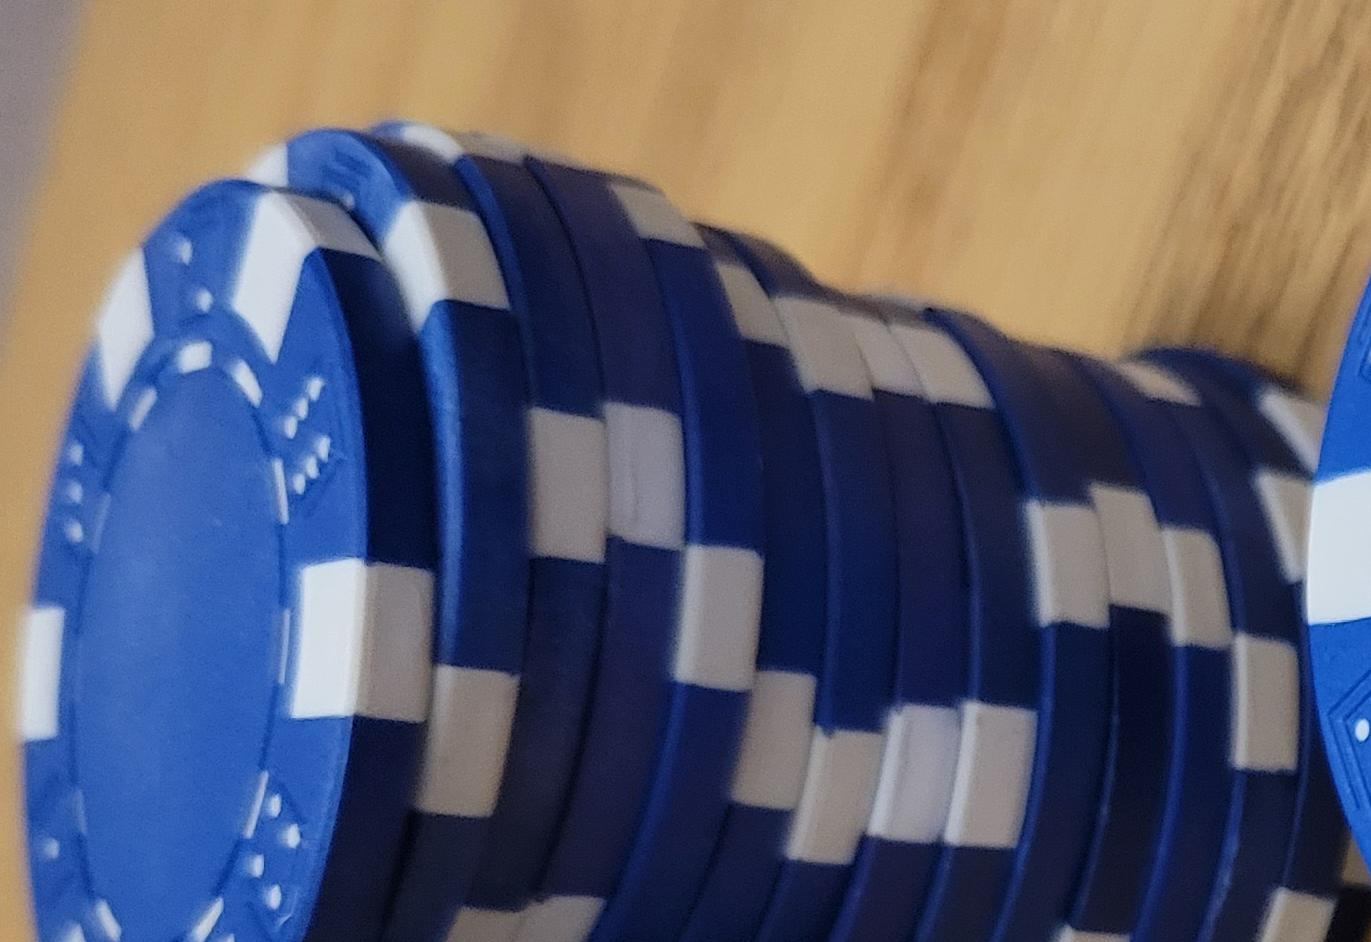Chip: (1, 167, 929, 942)
